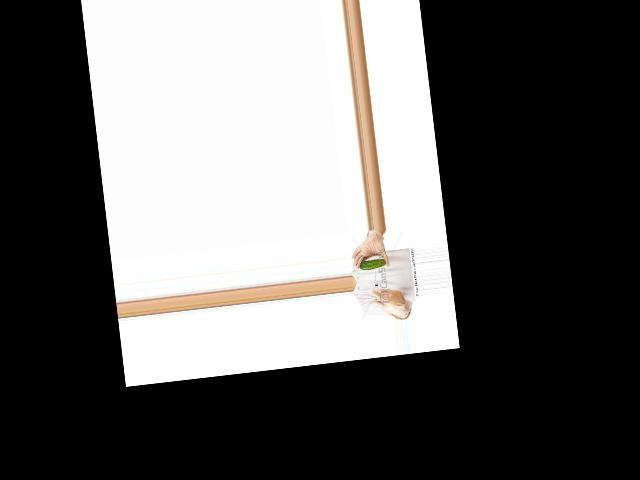cucumber: (359, 257, 387, 270)
